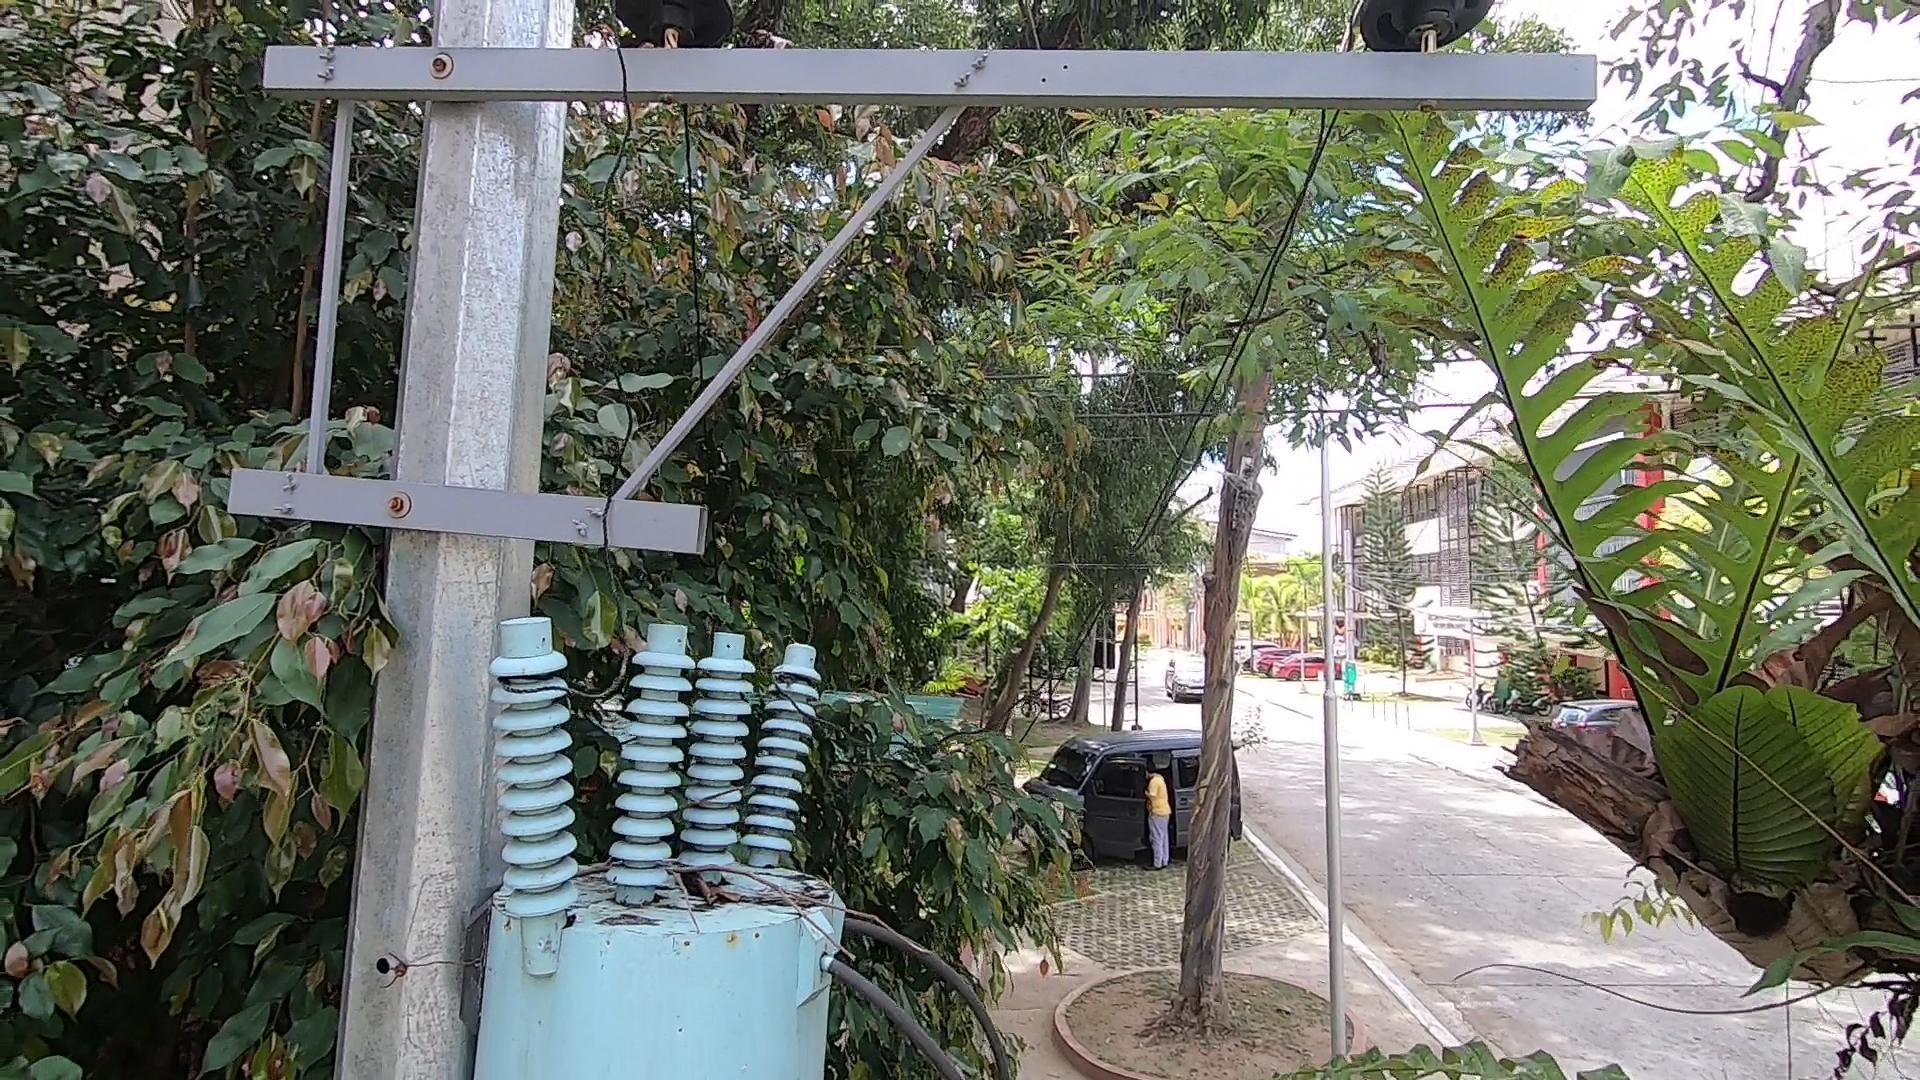leaf: (669, 860, 754, 913)
tree branch: (567, 852, 920, 964)
